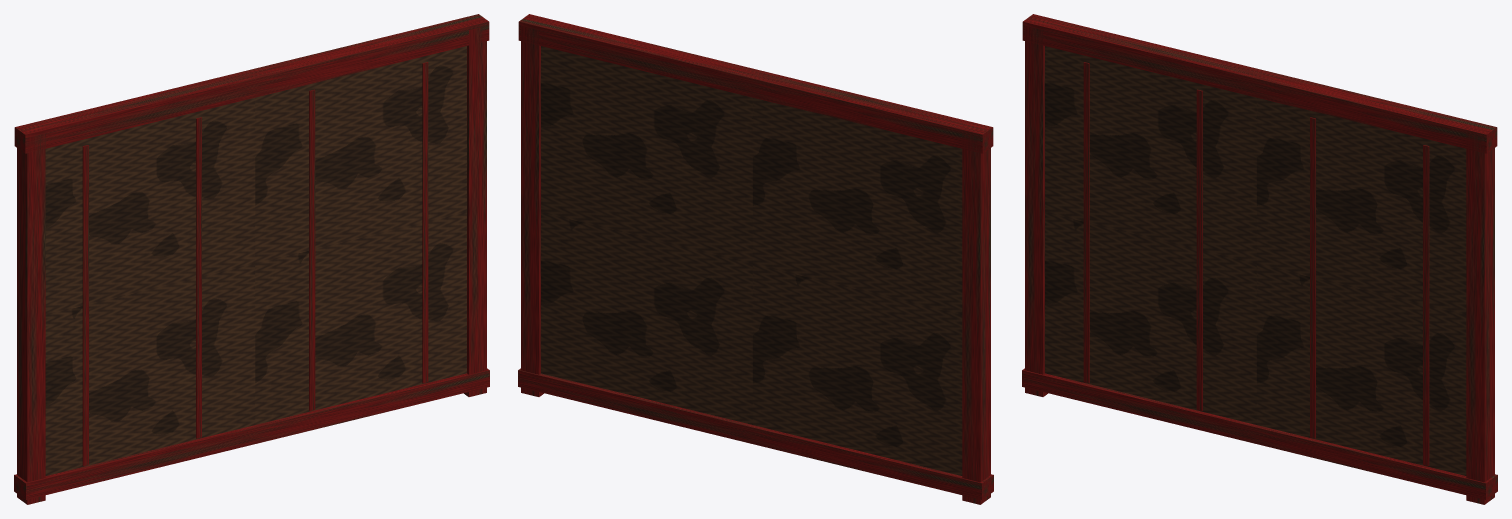
File: wall_wood.glb
The picture shows the model from 3 angles, left to right: view 1: azimuth 30°, elevation 25°; view 2: azimuth 150°, elevation 25°; view 3: azimuth 330°, elevation 25°; orthographic projection.
Parts seen in each view (by area): view 1: Panel, FrameT, FrameS-1, FrameB, FrameS1, PanelDiv3, PanelDiv2, PanelDiv0, PanelDiv1; view 2: Panel, FrameT, FrameS-1, FrameB, FrameS1; view 3: Panel, FrameT, FrameS1, FrameB, FrameS-1, PanelDiv0, PanelDiv1, PanelDiv3, PanelDiv2.
Part boxes in pixels (box(x1,y1,x2,y2)): Panel: box(45, 46, 466, 475); FrameT: box(14, 14, 489, 153); FrameS-1: box(17, 133, 45, 504); FrameB: box(14, 368, 489, 499); FrameS1: box(464, 26, 486, 396); PanelDiv3: box(422, 62, 428, 383); PanelDiv2: box(309, 89, 315, 410); PanelDiv0: box(82, 145, 88, 466); PanelDiv1: box(196, 117, 201, 438); Panel: box(541, 46, 962, 475); FrameT: box(518, 14, 993, 153); FrameS-1: box(962, 133, 990, 504); FrameB: box(518, 368, 993, 499); FrameS1: box(521, 26, 543, 396); Panel: box(1045, 46, 1466, 475); FrameT: box(1022, 14, 1497, 153); FrameS1: box(1466, 133, 1494, 504); FrameB: box(1022, 368, 1497, 499); FrameS-1: box(1025, 26, 1047, 396); PanelDiv0: box(1083, 62, 1089, 383); PanelDiv1: box(1196, 89, 1202, 410); PanelDiv3: box(1423, 145, 1429, 466); PanelDiv2: box(1310, 117, 1315, 438).
Size of what is drawn, in the model's own units: 4.1 by 3.13 by 0.18.
2 materials, 2 textured.
